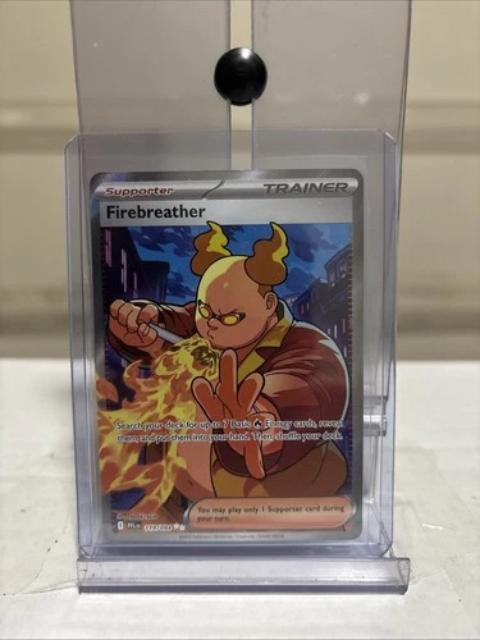Card: (90, 164, 366, 548)
Name: (100, 200, 209, 223)
